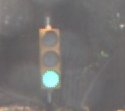Green: (33, 17, 67, 93)
